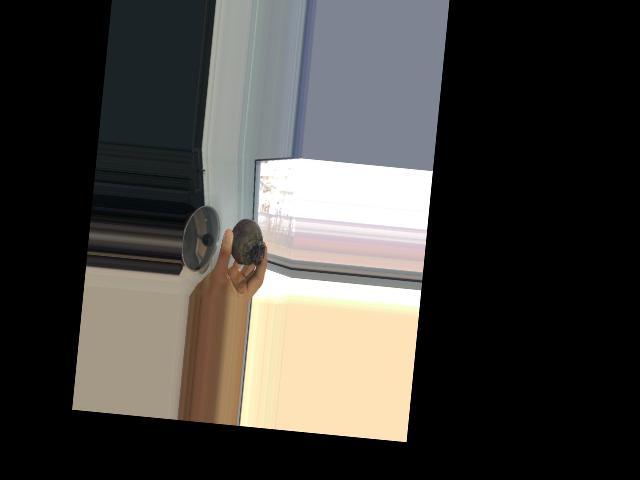beet: (227, 216, 267, 279)
